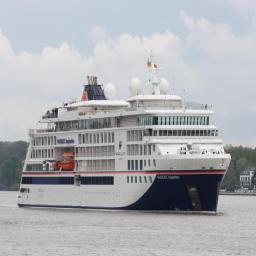cruises: (17, 55, 232, 218)
